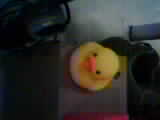duck: (63, 33, 122, 97)
